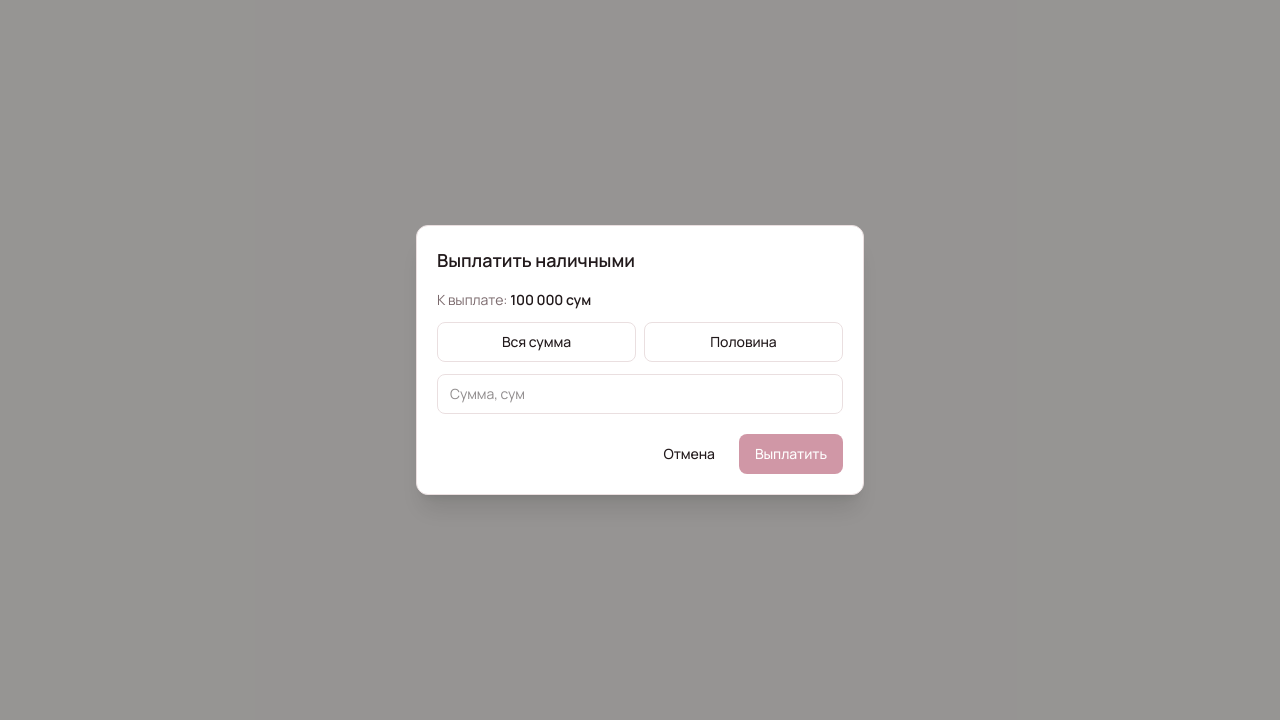
it: cash payout dialog (M3 §21): presets, confirmation, and a friendly over-balance message › over the balance: blocked on the spot with a plain reason; nothing is sent
Step 1. Type "999000" into the number field labelled "Сумма" → (640, 394), box x1=437 y1=374 x2=843 y2=414
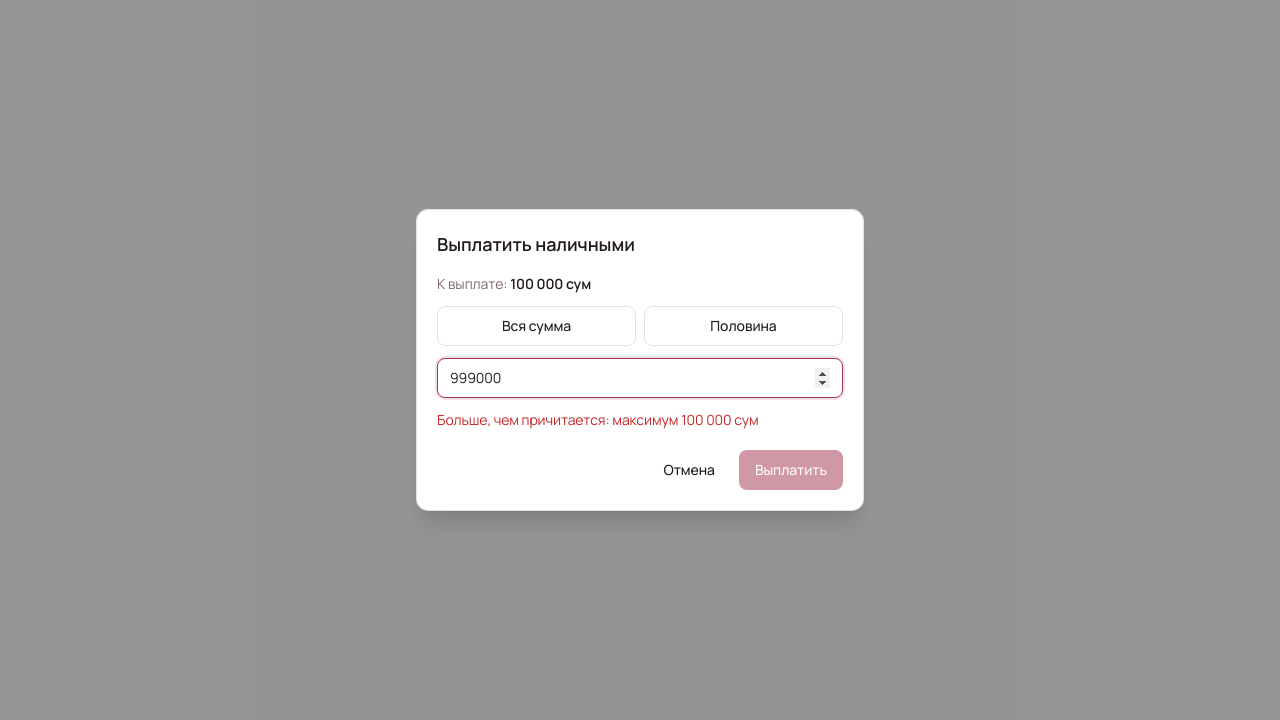
Expected: the button "Выплатить" is disabled, x1=739 y1=450 x2=843 y2=490
Expected: the text "Больше, чем причитается: максимум 100 000 сум" is shown, x1=437 y1=410 x2=758 y2=429
